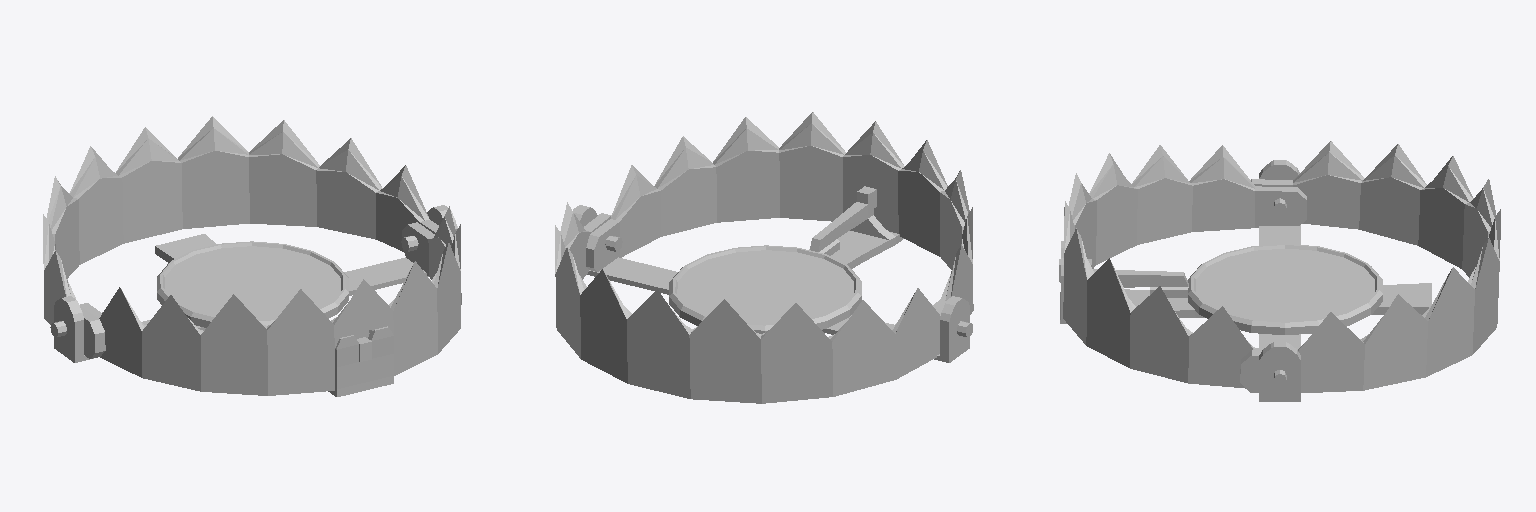
The model's file is trap.obj.
3 views of the same model, side by side, from view 1: azimuth 30°, elevation 25°; view 2: azimuth 150°, elevation 25°; view 3: azimuth 270°, elevation 25° (orthographic).
Visible parts, largest first — view 1: Trap_Base; view 2: Trap_Base; view 3: Trap_Base.
Boxes of the visible parts, x1,y1,x2,y2 form: Trap_Base: [43, 116, 461, 396]; Trap_Base: [555, 112, 973, 403]; Trap_Base: [1059, 141, 1500, 401].
Size of the model in its own units: 1.03 by 0.2733 by 0.9771.